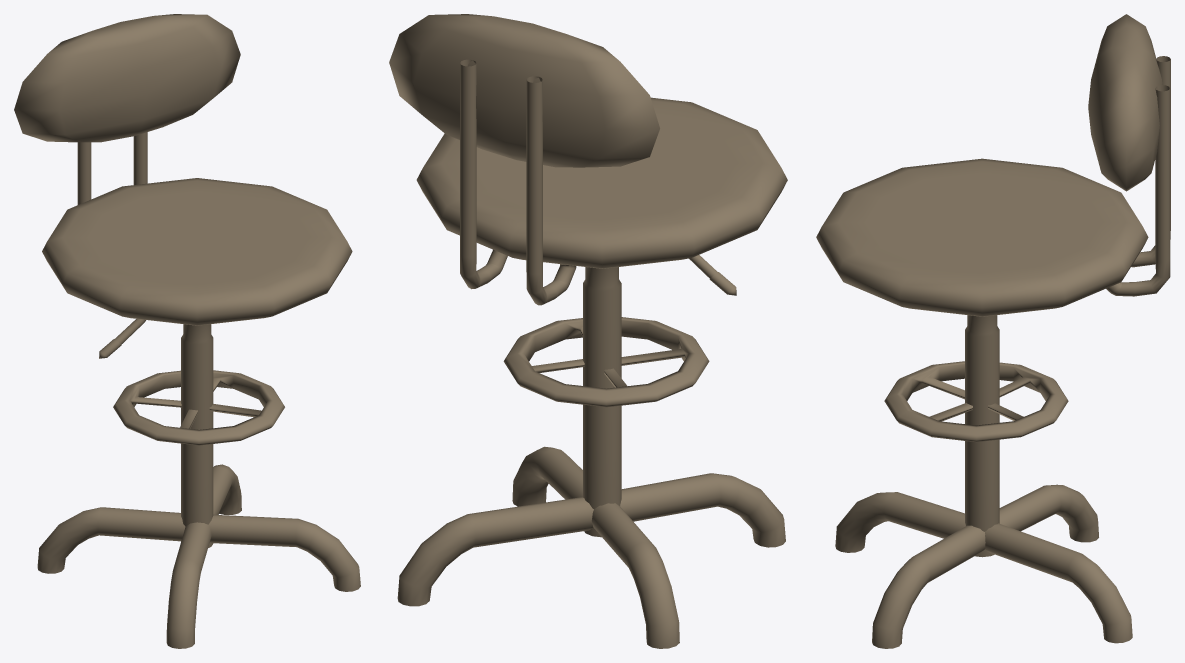
Rendered from Sillaconrespaldo.fbx.
The picture shows the model from 3 angles, left to right: view 1: azimuth 30°, elevation 25°; view 2: azimuth 150°, elevation 25°; view 3: azimuth 270°, elevation 25°; orthographic projection. The views are drawn at different scales.
Visible parts, largest first — view 1: polySurface15; view 2: polySurface15; view 3: polySurface15.
Boxes of the visible parts, x1,y1,x2,y2 form: polySurface15: (14,14,360,648); polySurface15: (389,14,787,648); polySurface15: (816,14,1170,648).
Bounding box in the file's own units: 1.87 × 3.35 × 2.
